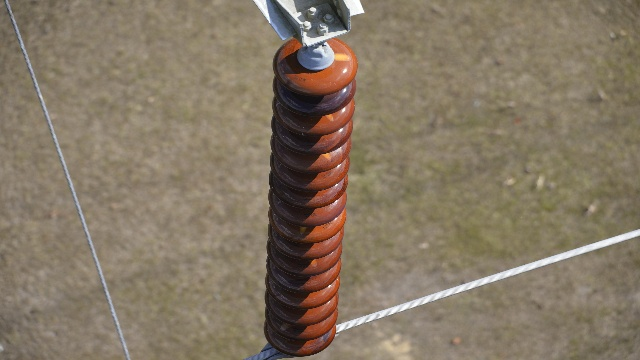insulator_unspecified: (264, 36, 357, 354)
pollution_flashover_local: (329, 49, 352, 63), (322, 150, 337, 165), (324, 112, 334, 120)
